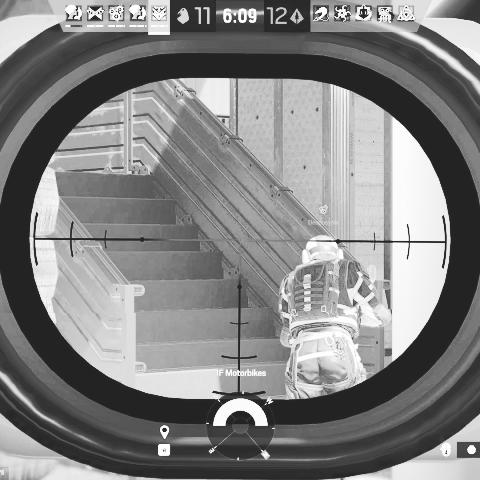Character: (278, 233, 393, 399)
Friend_label: (307, 202, 341, 228)
Head: (302, 236, 344, 262)
